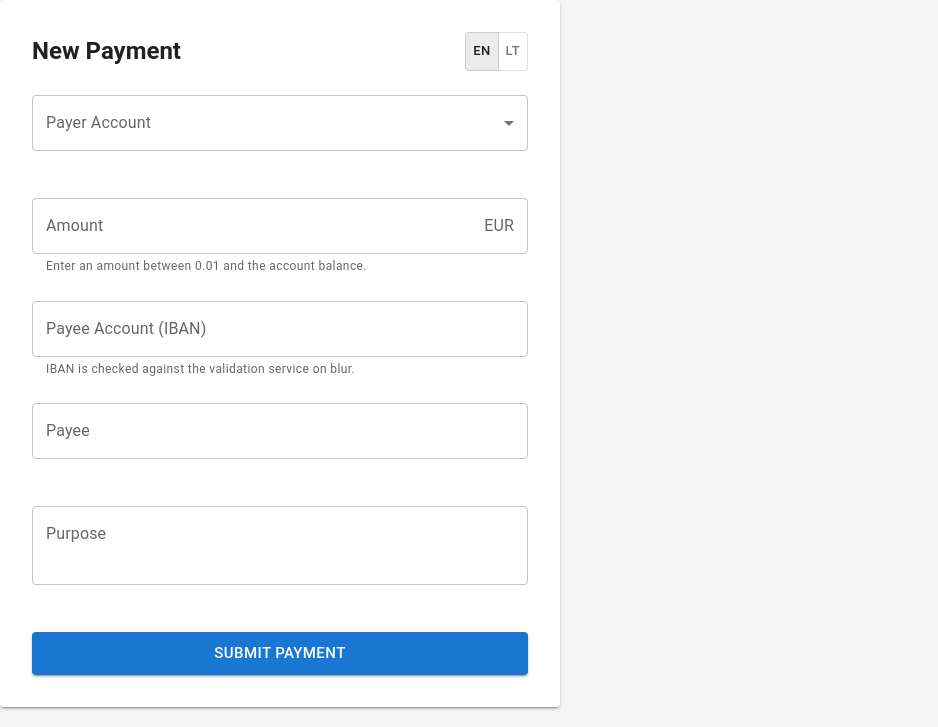
Test case: PaymentForm › submit › checks the IBAN during submit if it was never verified on blur
This screenshot has width=938, height=727.
Click the dropdown named "Payer Account" at point(280, 123), box [32,95,528,151]
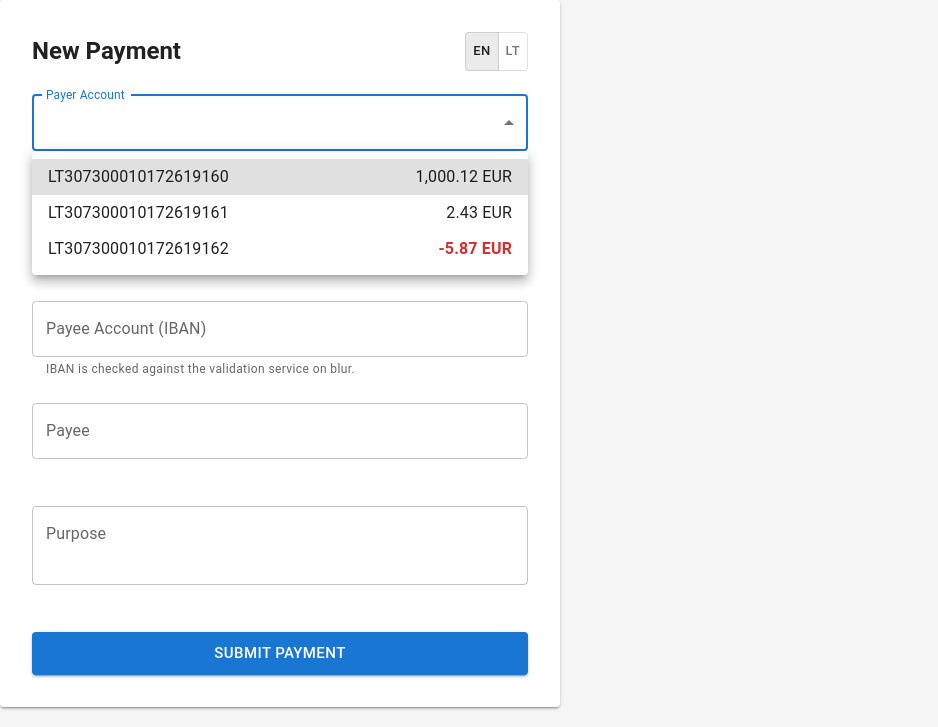
Click the option "LT307300010172619160 1,000.12 EUR" at point(138, 176), box [32,159,528,195]
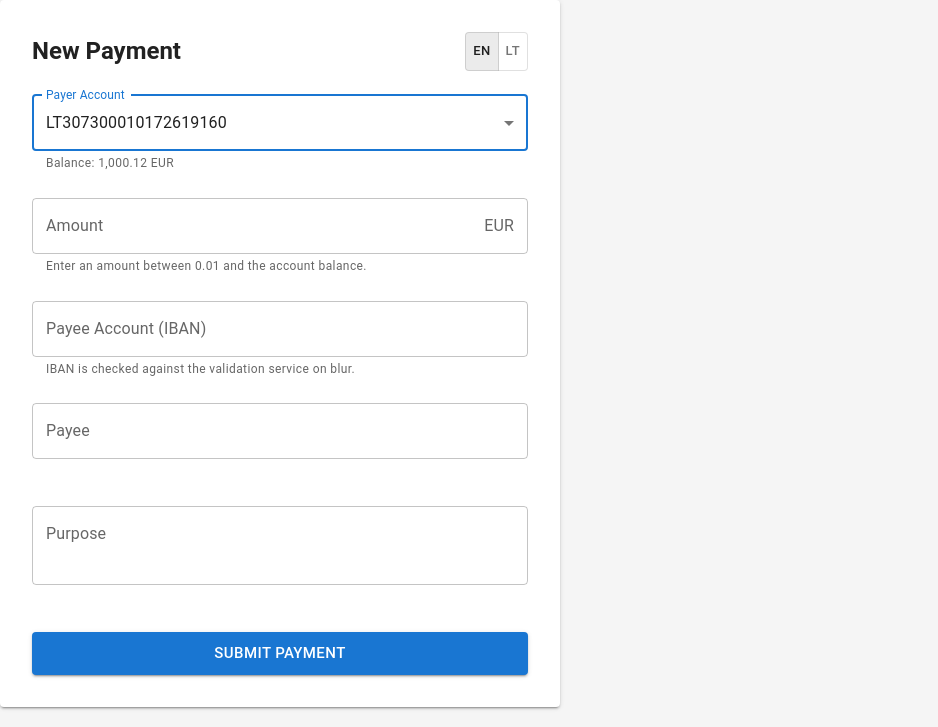
Type "10" into the field labelled "Amount" at point(254, 226), box [32,198,476,254]
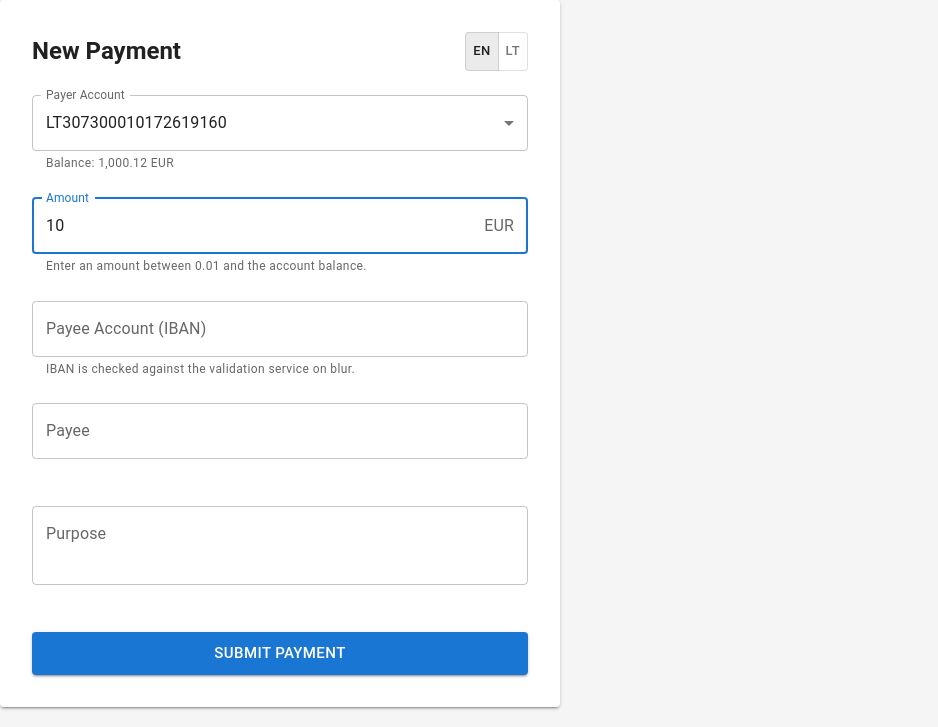
Type "Jane Doe" into the field labelled "Payee" at point(280, 432), box [32,404,528,460]
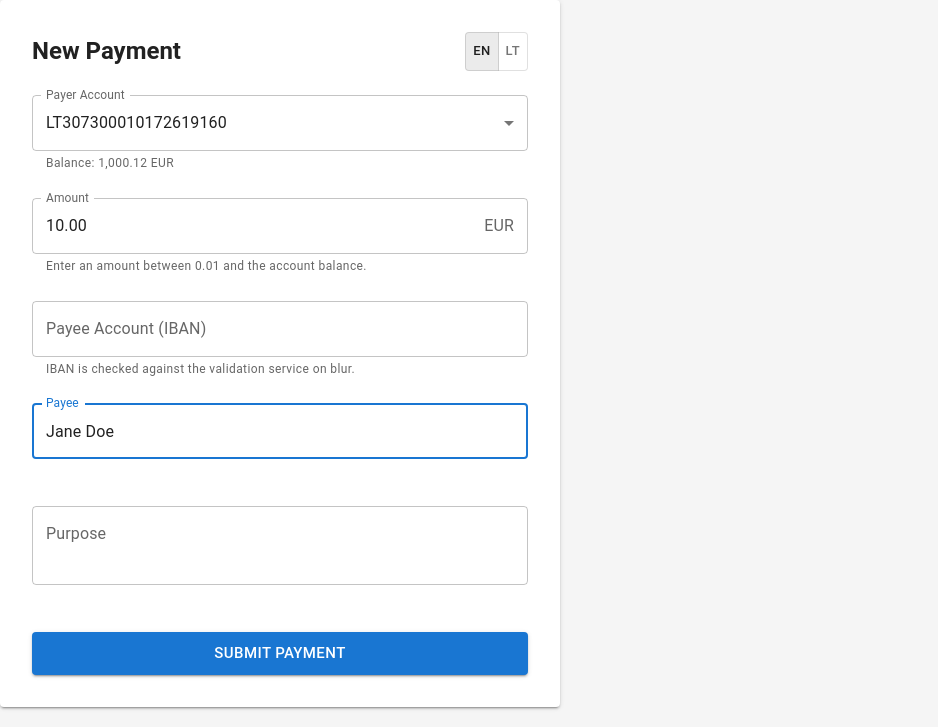
Type "Invoice payment" into the text box labelled "Purpose" at point(280, 546), box [46,523,514,569]
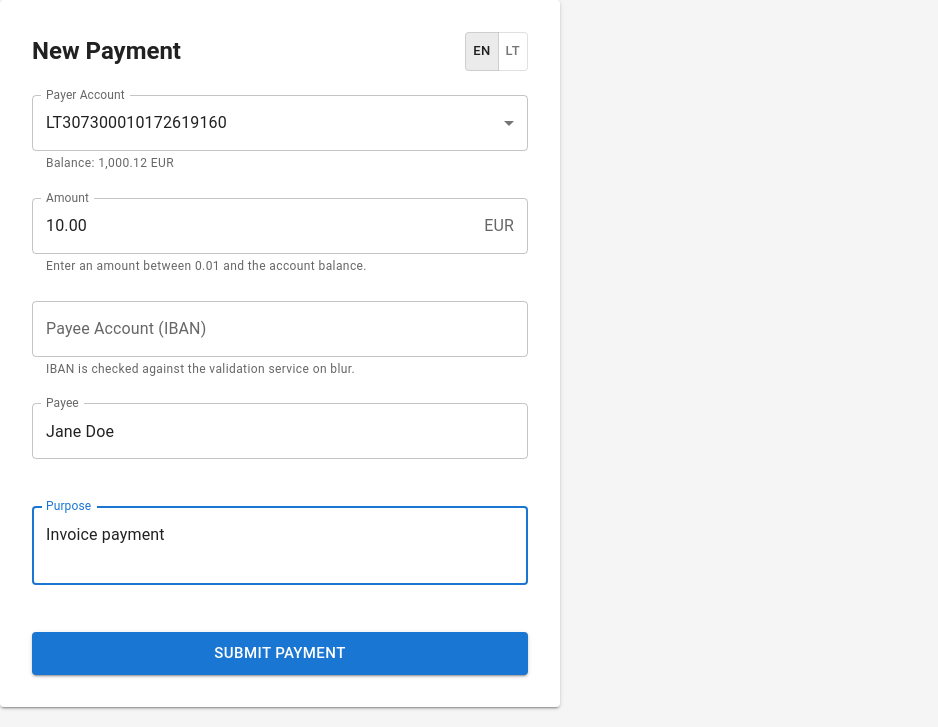
Type "LT307300010172619199" into the field labelled "Payee Account (IBAN)" at point(280, 329), box [32,301,528,357]
Click the button "Submit Payment" at point(280, 653), box [32,632,528,675]
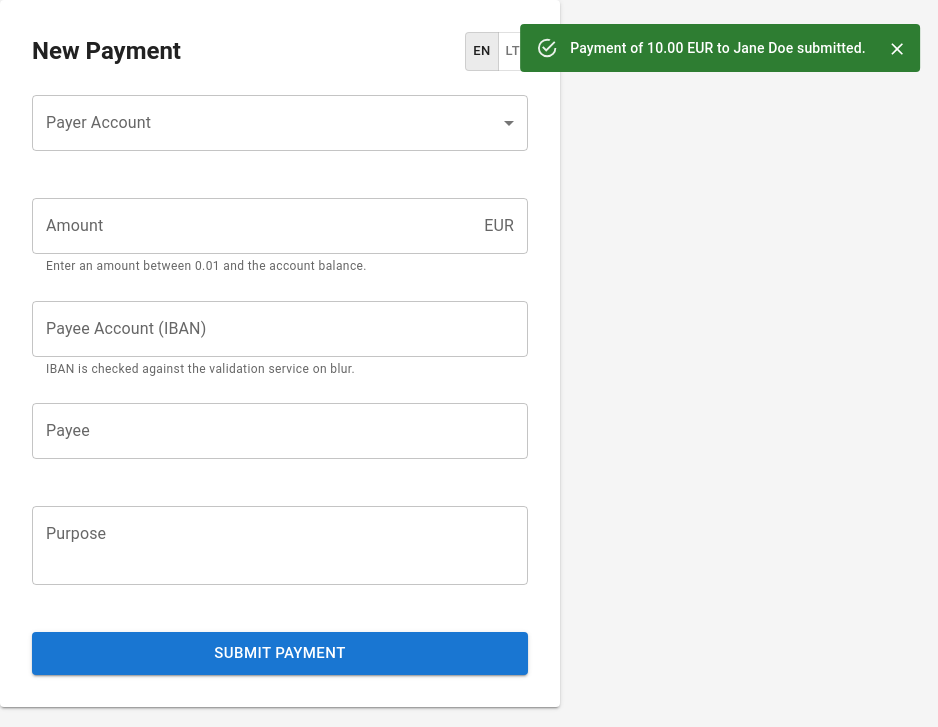
Expected: the text "Payment of 10.00 EUR to Jane Doe submitted." is shown, [570,40,866,56]
